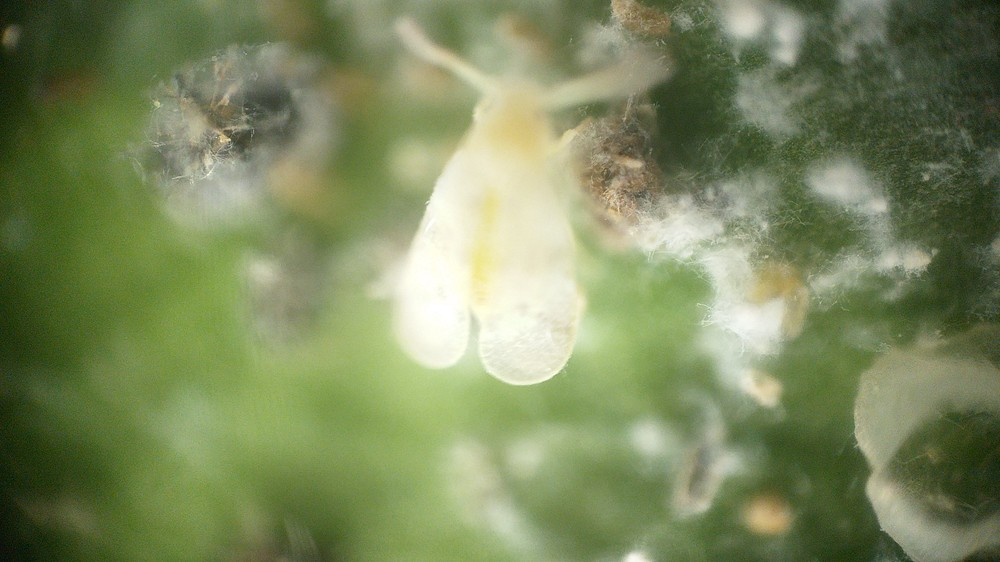Mosca Blanca: (360, 12, 690, 401)
